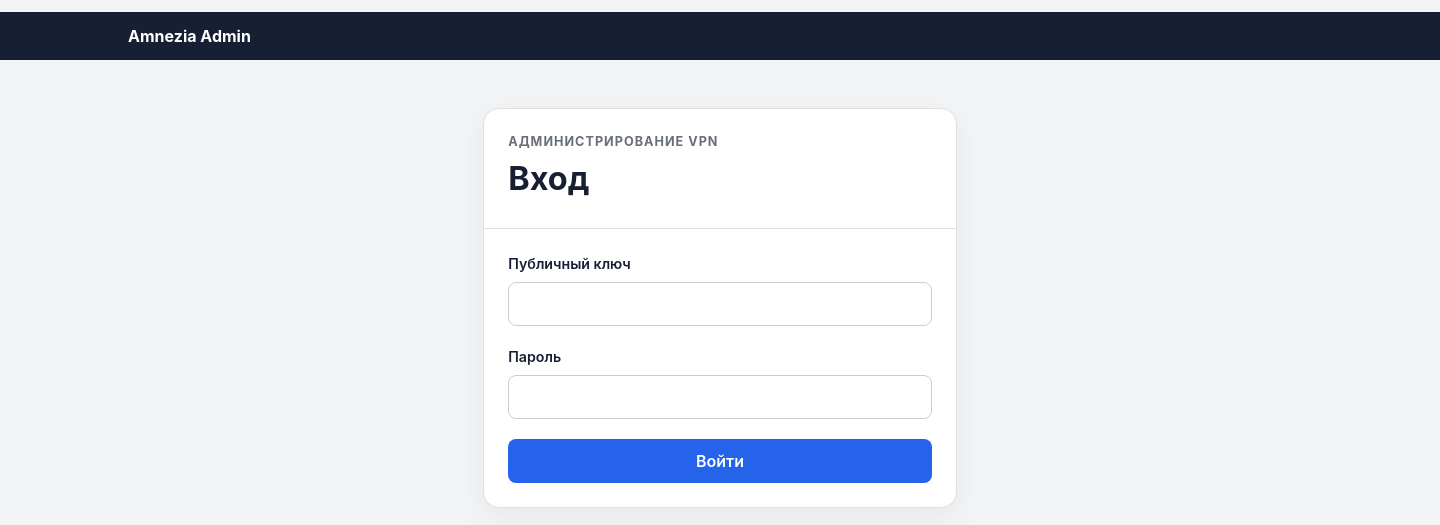
Scenario: cookie session › shows login after 401 and sends credentials before loading connections
Check: the heading "Вход" is shown, box [508,159,589,198]
In the field labelled "Публичный ключ": (720, 304) [508,282,932,326], type "  key+/=  "
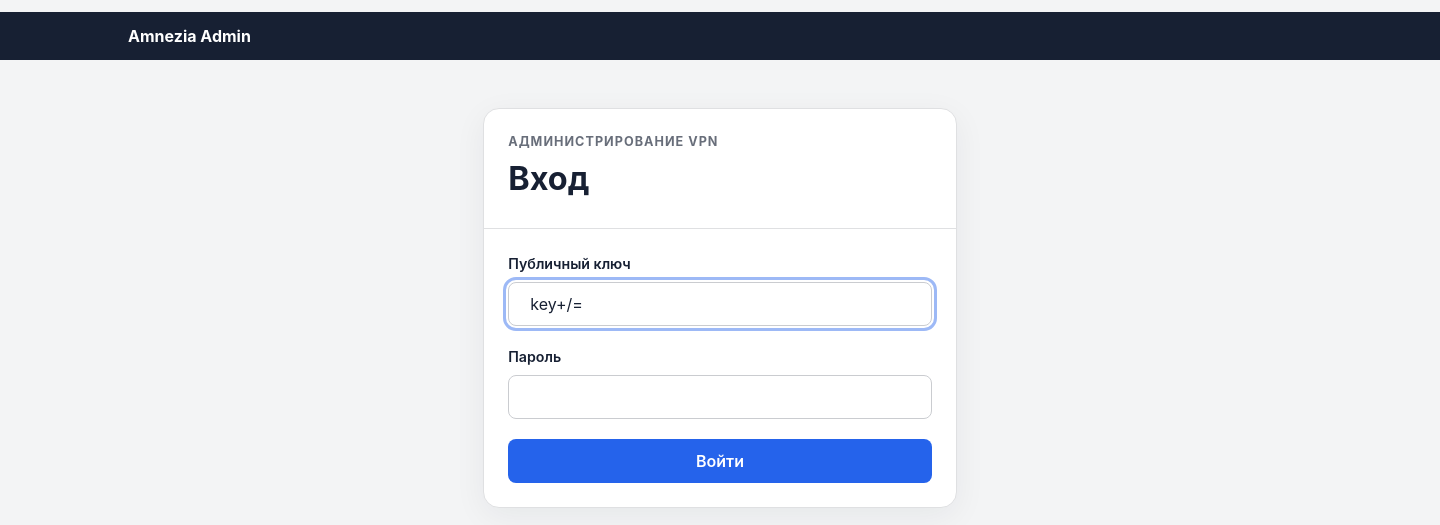
In the password field labelled "Пароль": (720, 397) [508,375,932,419], type "secret"
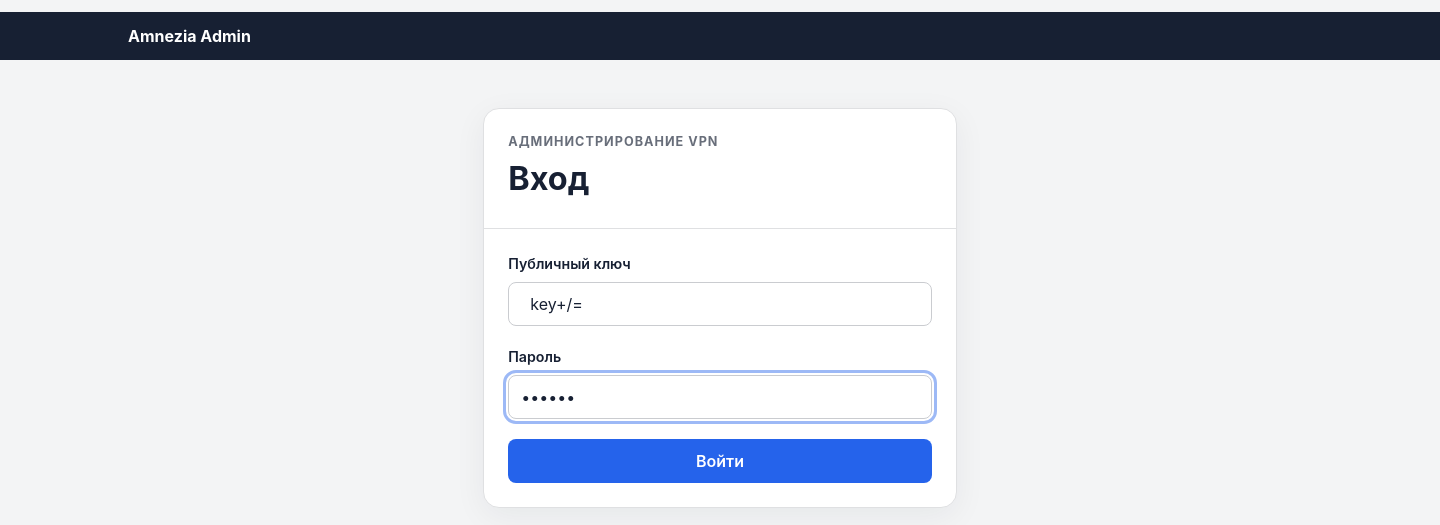
Click the button "Войти": (720, 461) [508,439,932,483]
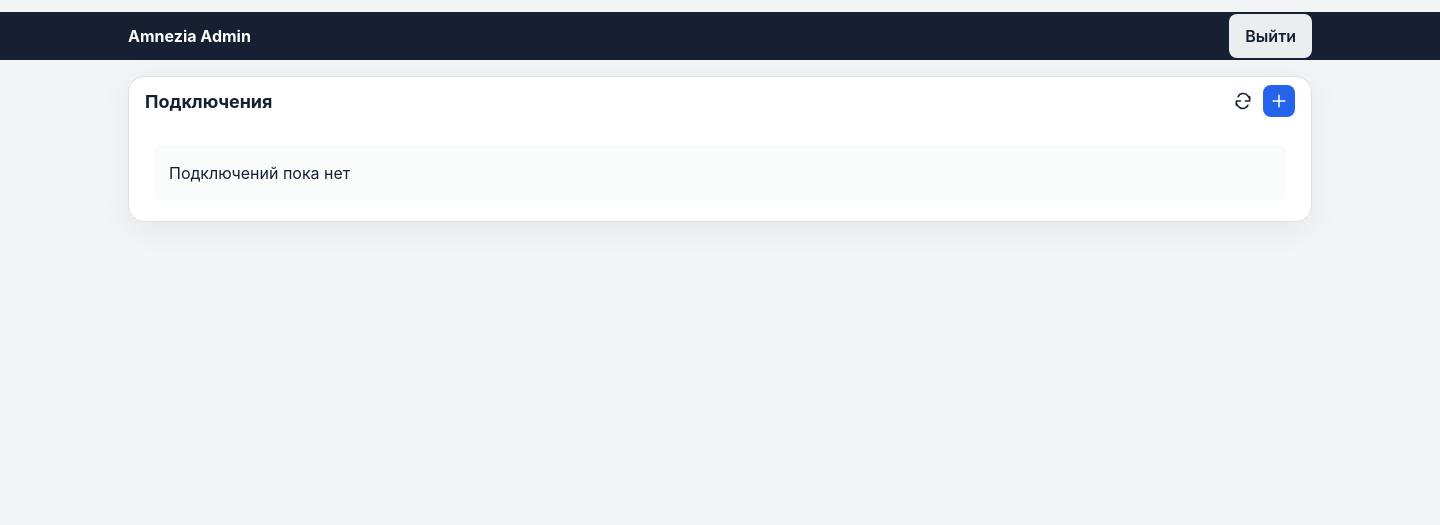
Check: the text "Подключений пока нет" is shown, box [153,145,1287,201]
Check: the label labelled "Пароль" is gone
